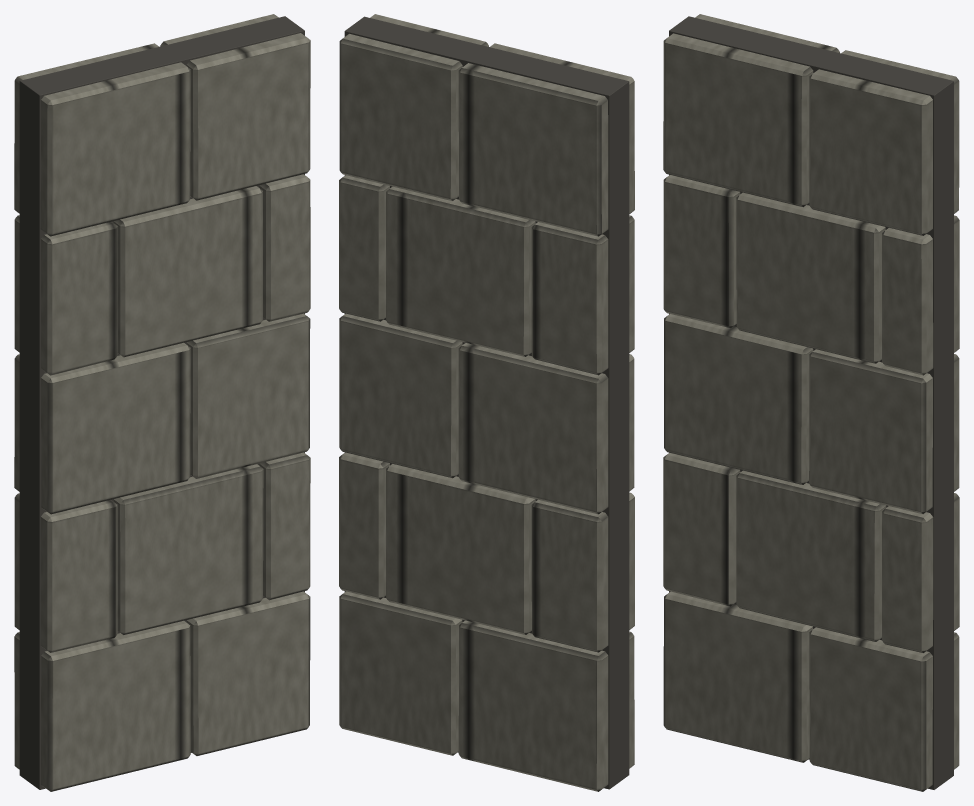
Rendered from wall_ashlar_b.glb.
The picture shows the model from 3 angles, left to right: view 1: azimuth 30°, elevation 25°; view 2: azimuth 150°, elevation 25°; view 3: azimuth 330°, elevation 25°; orthographic projection.
Parts seen in each view (by area): view 1: wall_ashlar_b; view 2: wall_ashlar_b; view 3: wall_ashlar_b.
Boxes of the visible parts, bbox=[...] form: wall_ashlar_b: bbox=[14, 14, 310, 791]; wall_ashlar_b: bbox=[339, 14, 634, 791]; wall_ashlar_b: bbox=[663, 14, 959, 791].
Size of the model in its own units: 1 by 2.5 by 0.2398.
2 materials, 1 textured.
